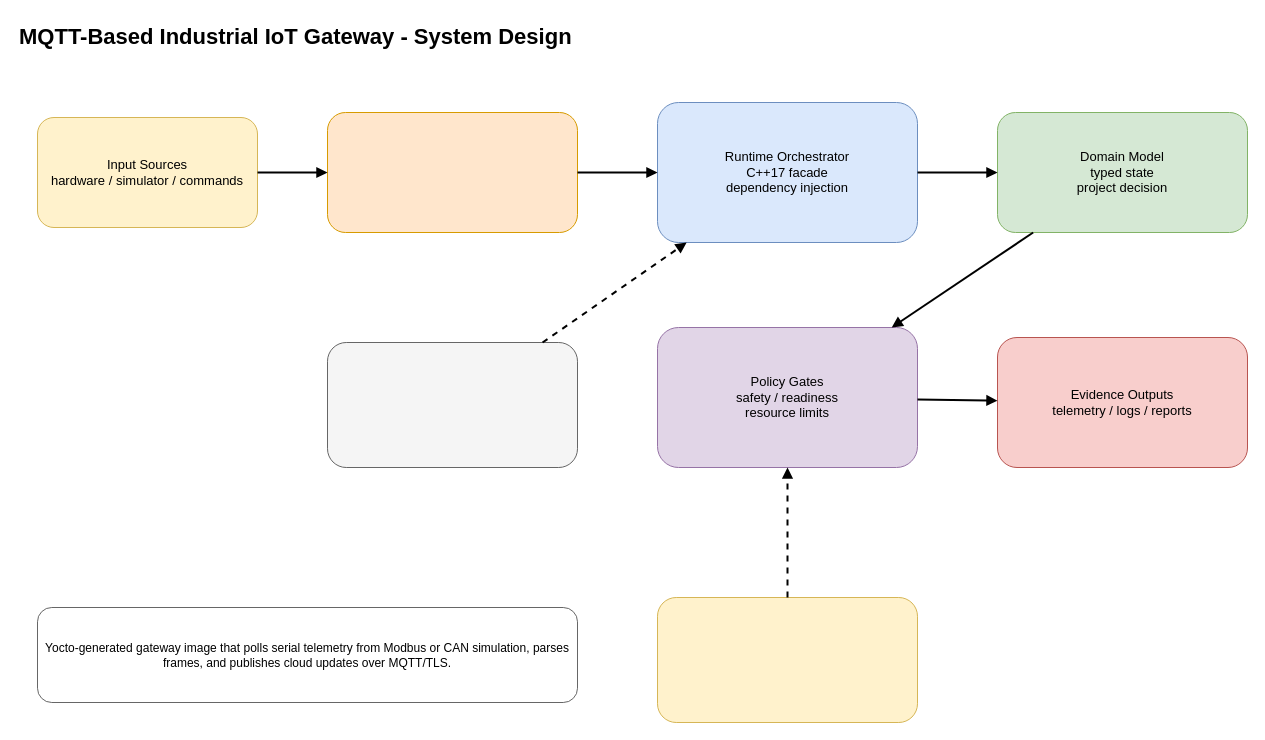
This 1265x740 diagram has some shape labels left out. The centre of each missing label's shape, as x and y in pixels:
"Adapter Layer bus / OS / driver / transport" belongs at point (452, 172).
"Roadmap design / host runtime target adapters / evidence" belongs at point (787, 659).
"Validation CTest / CI hardware evidence" belongs at point (452, 405).
